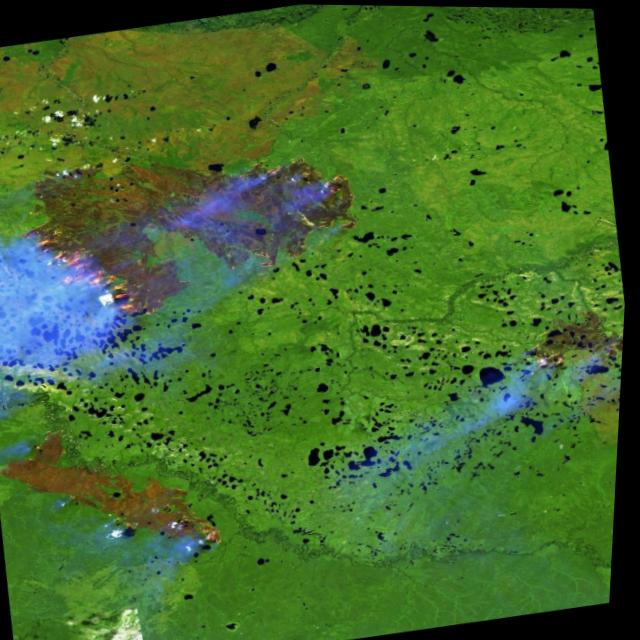fire: (0, 190, 176, 352), (201, 137, 393, 284), (116, 480, 247, 581), (514, 317, 612, 395)
